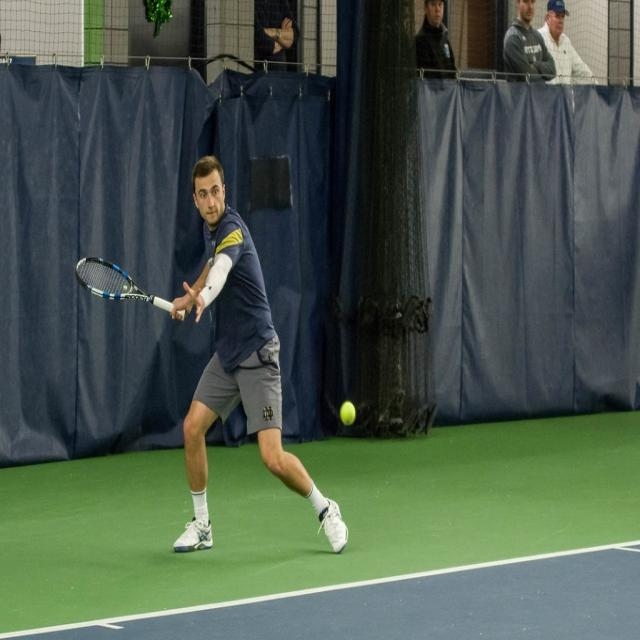ball: (338, 396, 358, 433)
